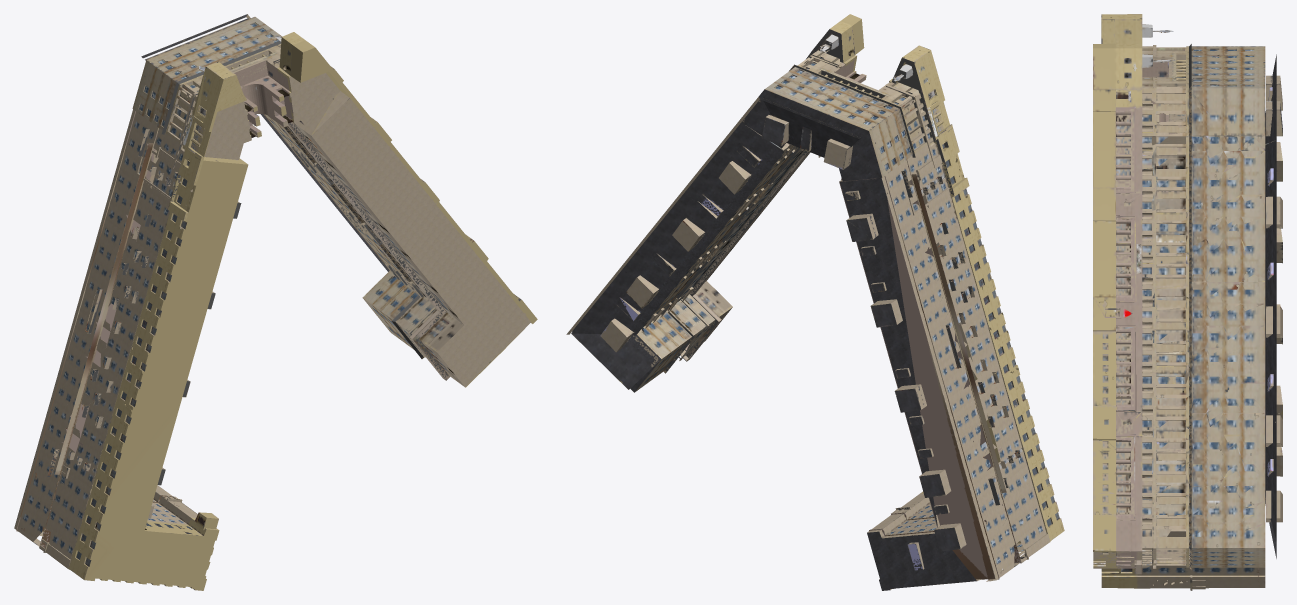
File: akadem_kubishev2.fbx
The picture shows the model from 3 angles, left to right: view 1: azimuth 30°, elevation 25°; view 2: azimuth 150°, elevation 25°; view 3: azimuth 270°, elevation 25°; orthographic projection. The views are drawn at different scales.
Visible parts, largest first — view 1: Group_2036.001; view 2: Group_2036.001; view 3: Group_2036.001.
Boxes of the visible parts, box(x1,y1,x2,y2) form: Group_2036.001: box(14, 14, 537, 590); Group_2036.001: box(566, 14, 1064, 590); Group_2036.001: box(1093, 14, 1282, 590).
Bounding box in the file's own units: 11685 × 12895 × 3686.
Materials: 1 (1 with a texture image).
